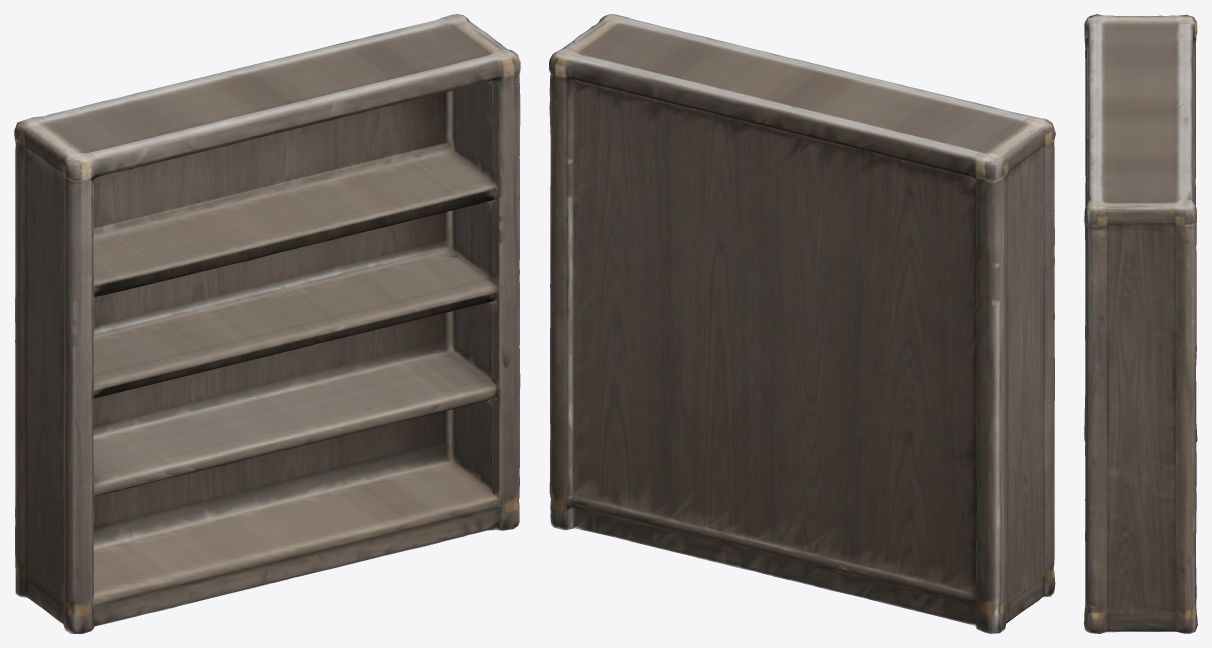
File: bookcase.glb
3 views of the same model, side by side, from view 1: azimuth 30°, elevation 25°; view 2: azimuth 150°, elevation 25°; view 3: azimuth 270°, elevation 25° (orthographic). The views are drawn at different scales.
Parts seen in each view (by area): view 1: geometry_0; view 2: geometry_0; view 3: geometry_0.
Boxes of the visible parts, x1,y1,x2,y2 form: geometry_0: (14, 14, 520, 633); geometry_0: (549, 14, 1055, 633); geometry_0: (1084, 14, 1197, 633).
Bounding box in the file's own units: 1.97 × 1.96 × 0.4759.
1 material, 1 textured.
